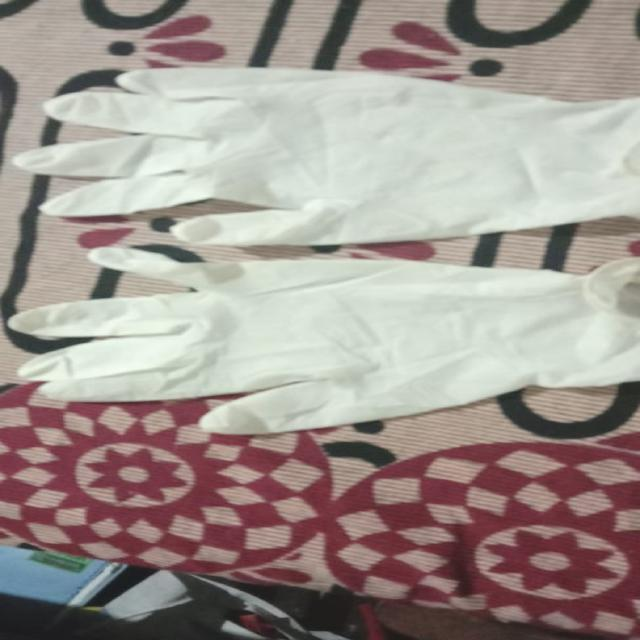glove: (5, 241, 640, 443), (10, 59, 635, 254)
